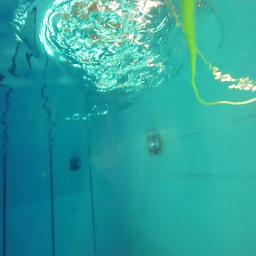Full: (69, 160, 81, 172), (70, 160, 82, 170)
front: (148, 140, 162, 158), (148, 141, 162, 155)
